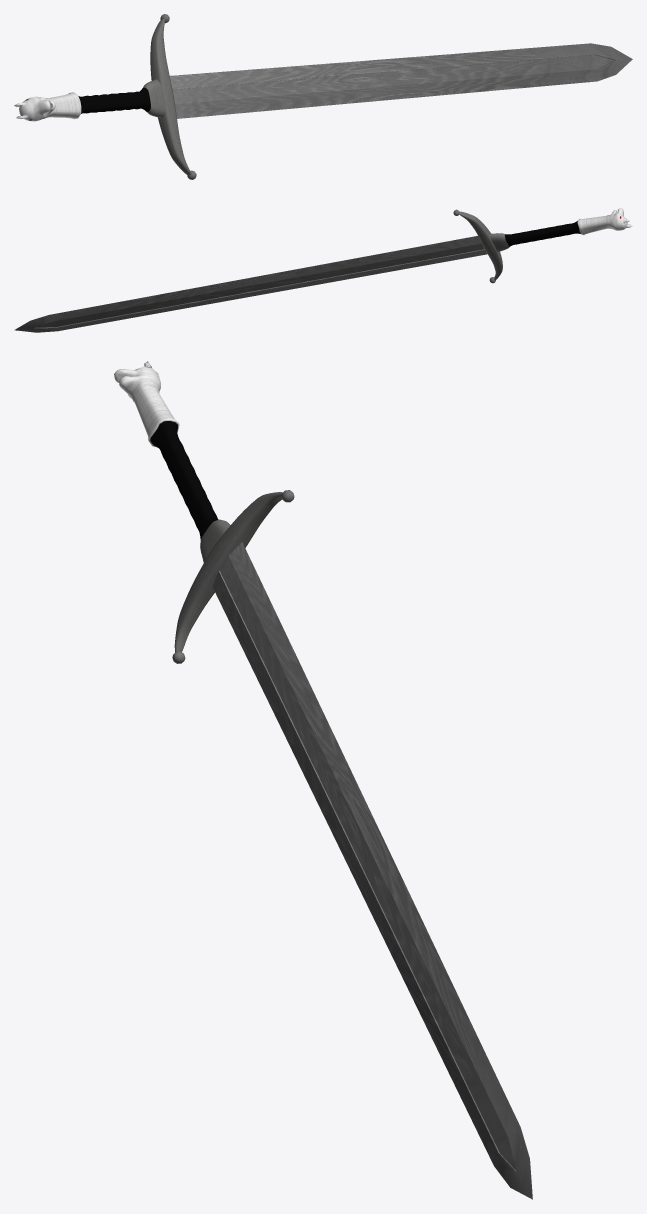
3 renders of one model, top to bottom at view 1: azimuth 30°, elevation 25°; view 2: azimuth 150°, elevation 25°; view 3: azimuth 270°, elevation 25°, orthographic. The views are drawn at different scales.
Parts seen in each view (by area): view 1: Longclaw; view 2: Longclaw; view 3: Longclaw.
Boxes of the visible parts, x1,y1,x2,y2 form: Longclaw: (14, 14, 632, 179); Longclaw: (14, 208, 632, 332); Longclaw: (114, 361, 532, 1199).
Size of the model in its own units: 600 by 189 by 209.
5 materials, 3 textured.
